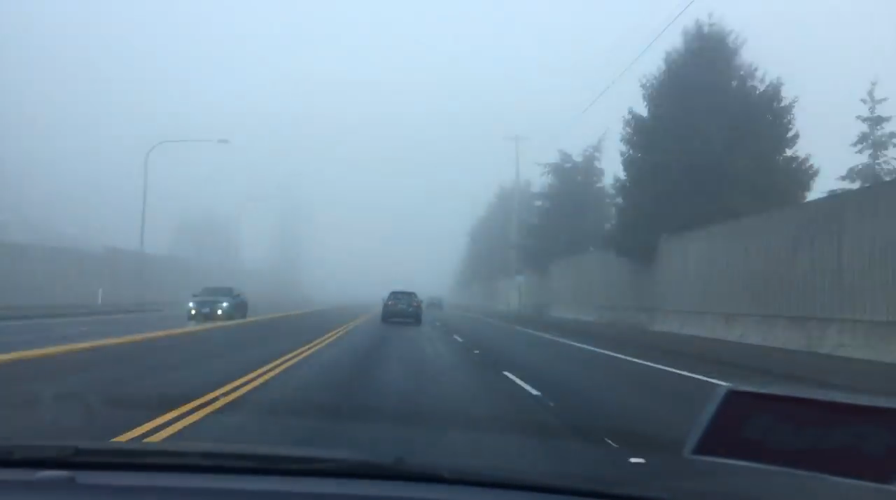car: (185, 282, 249, 324), (380, 287, 424, 326), (424, 294, 445, 312)
